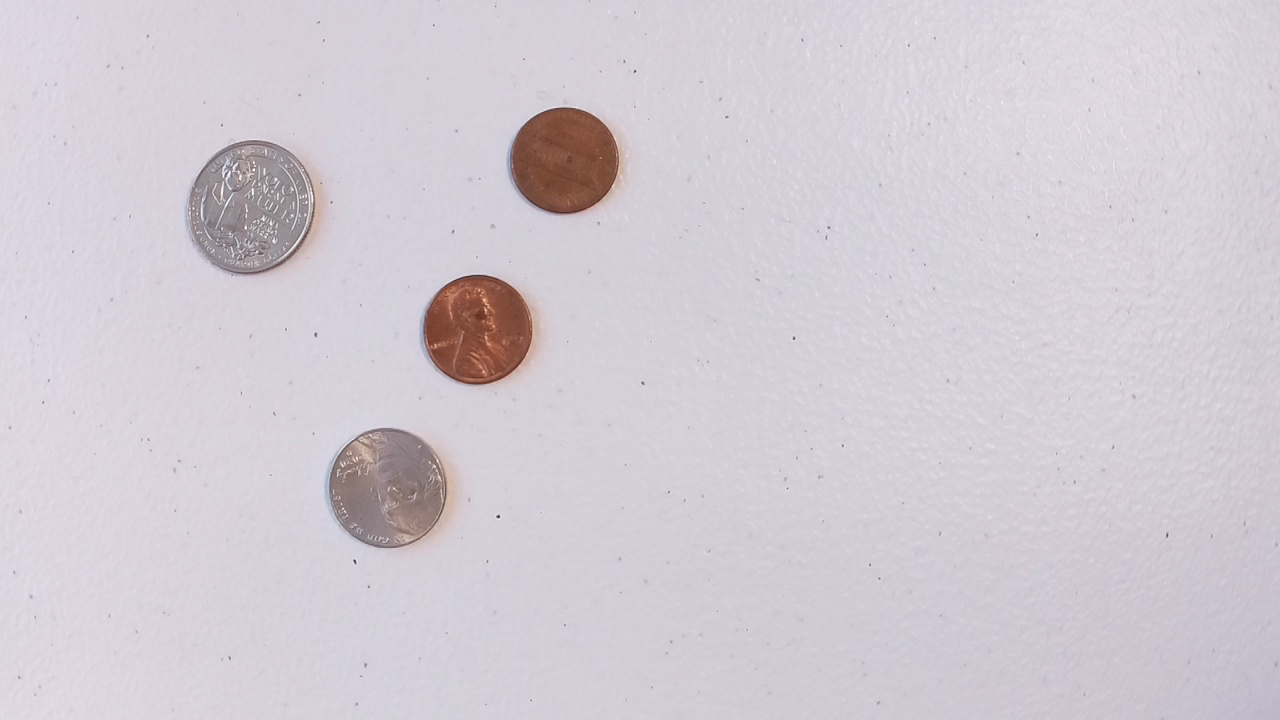nickel: (318, 424, 452, 552)
penny: (502, 104, 626, 216), (418, 272, 536, 384)
quarter: (180, 134, 322, 280)
